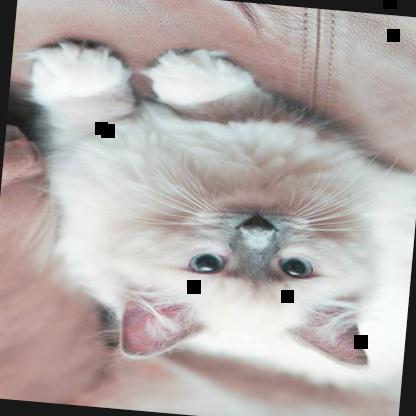cat: (7, 38, 415, 391)
